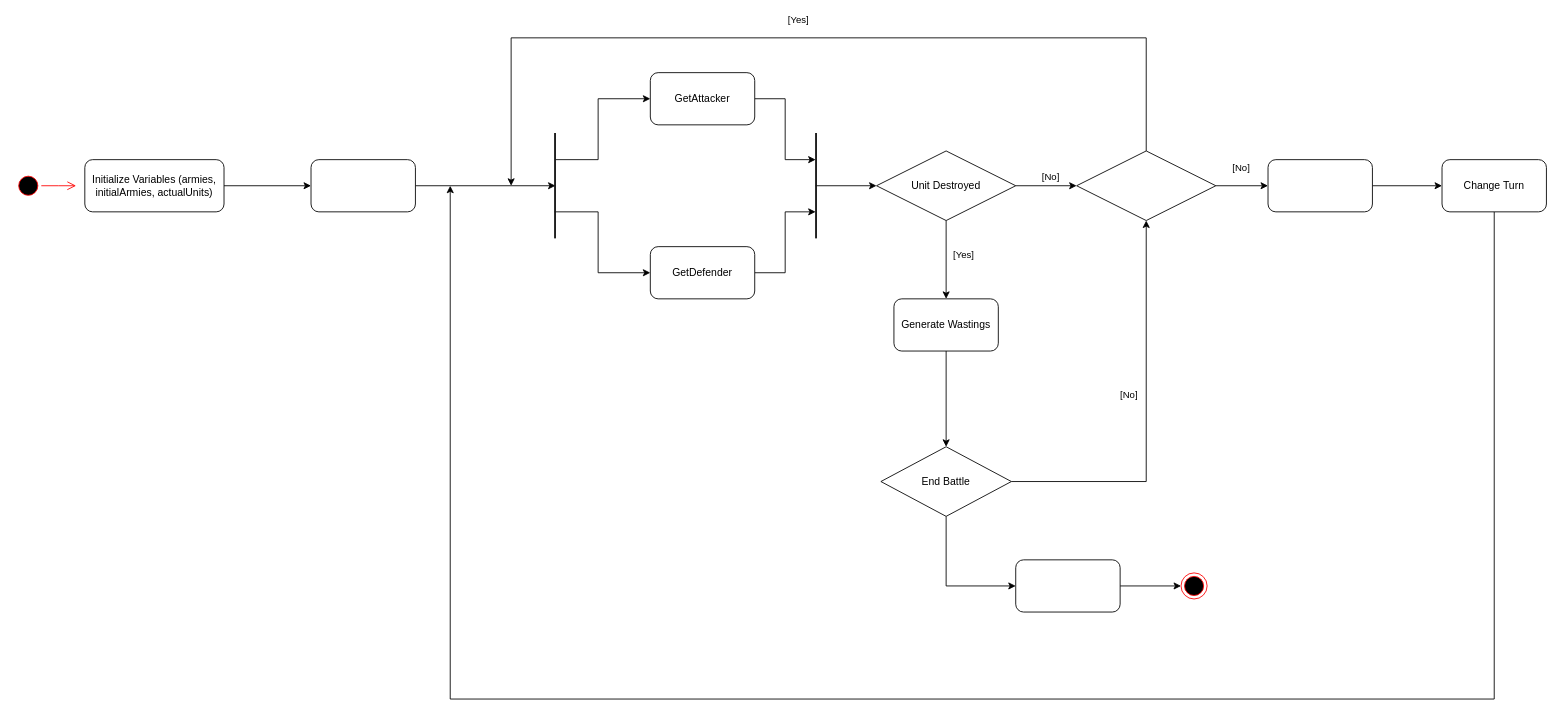
The diagram is 1562 pixels wide and 721 high, and some of its shapes have lost their labels. Each missing label, with the centre of its shape:
"Attack Again" belongs at (1146,185).
"GetStartingTurn" belongs at (362,185).
"GetWinner" belongs at (1067,585).
"Update Variables" belongs at (1319,185).
